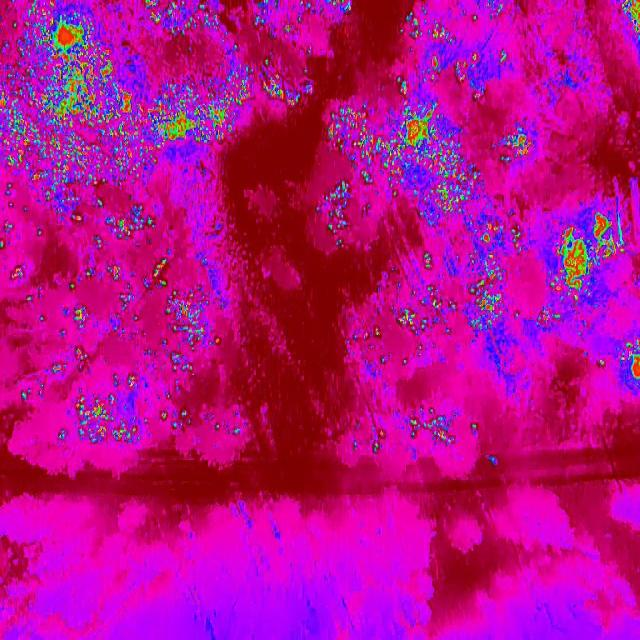fire: (0, 0, 156, 208), (328, 92, 487, 240), (155, 0, 353, 41), (554, 204, 627, 315), (156, 66, 252, 146), (466, 219, 522, 347), (421, 24, 509, 85), (163, 288, 222, 372), (72, 383, 145, 447), (400, 286, 458, 334), (262, 54, 312, 106), (404, 406, 458, 450), (101, 208, 156, 244), (495, 128, 541, 163), (620, 0, 640, 52), (624, 342, 640, 394), (152, 254, 171, 288)
